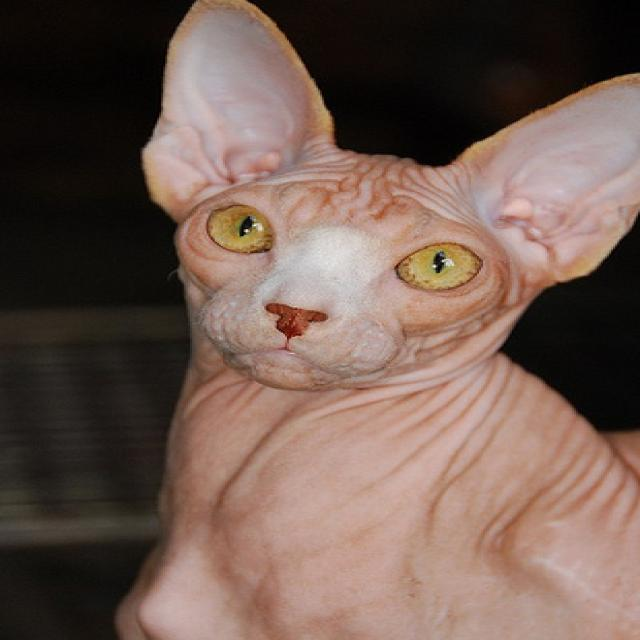Sphynx: (109, 0, 640, 640)
